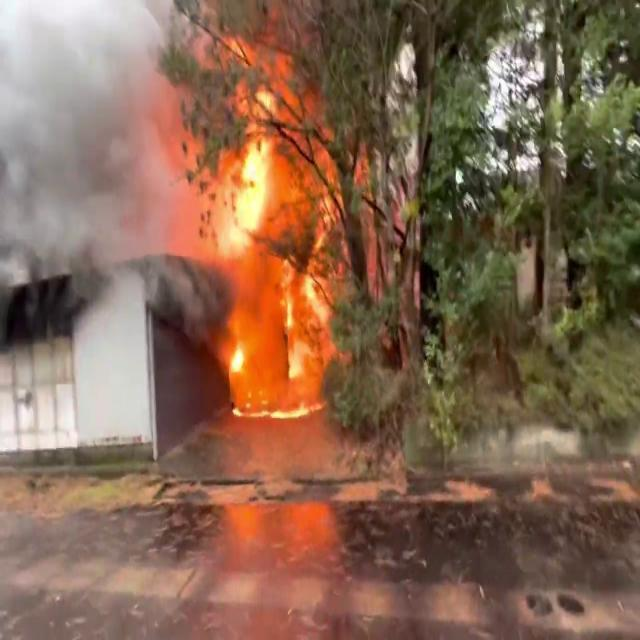Fire: (175, 16, 398, 420)
Smoke: (0, 0, 214, 337)
